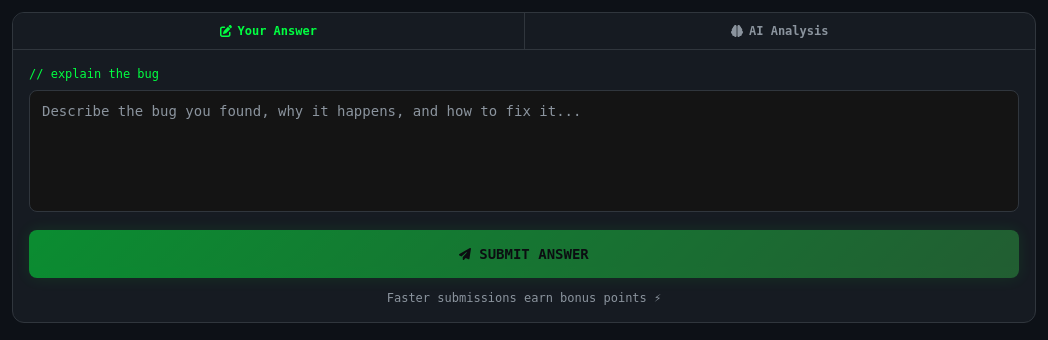
Test case: AnswerPanel › tab switching › should show AI Analysis tab when clicked
Click the button "AI Analysis" at [780, 31], box [524, 13, 1035, 49]
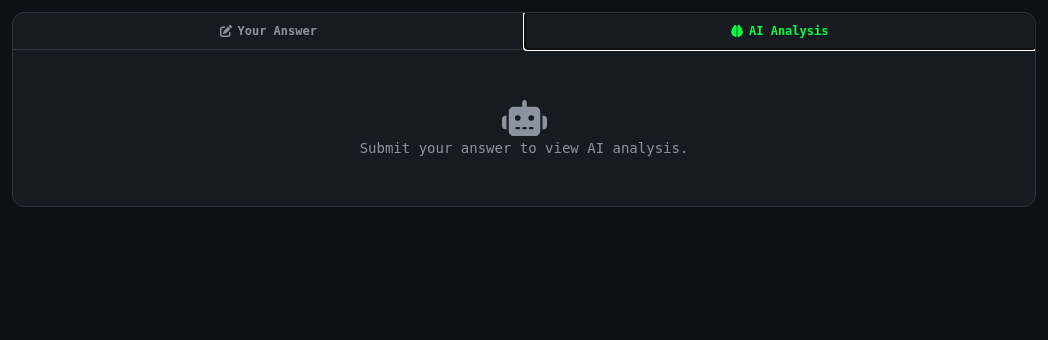
Expected: the text "Submit your answer to view AI analysis." is shown, [360, 140, 688, 156]
